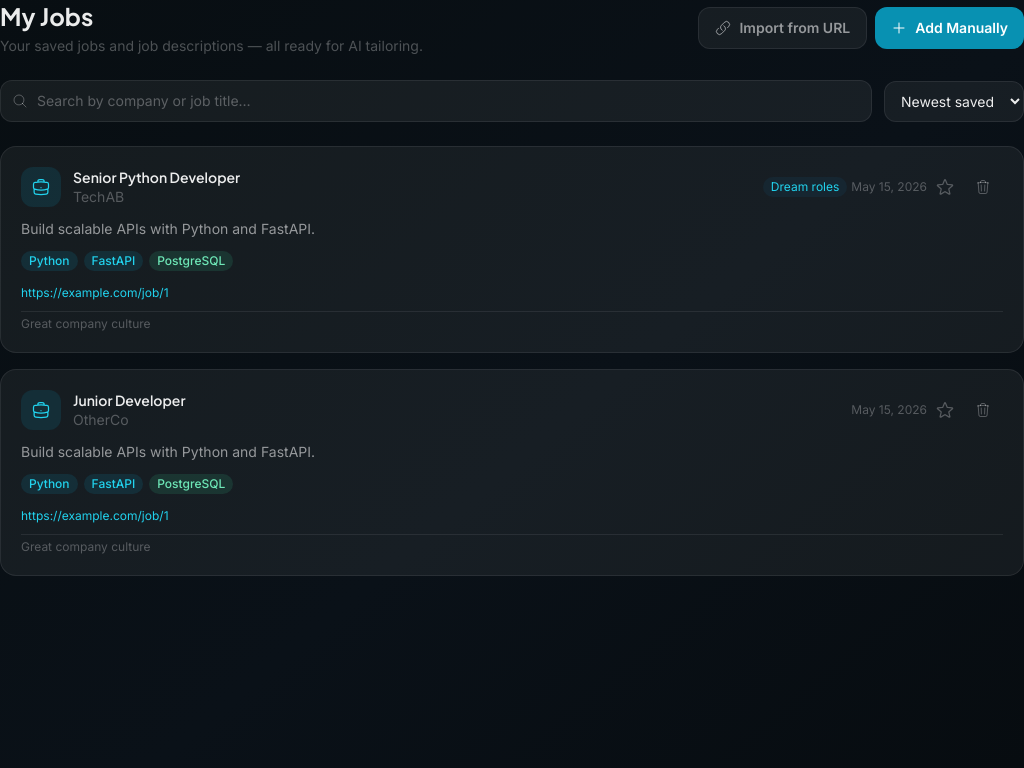
Test case: Jobs page (unified My Jobs) › filters by search text
expect the heading "Senior Python Developer" is shown: met, box [73,168,240,186]
In the field with placeholder "Search by company or job title…": (436, 101) [0,80,872,122], type "TechAB"
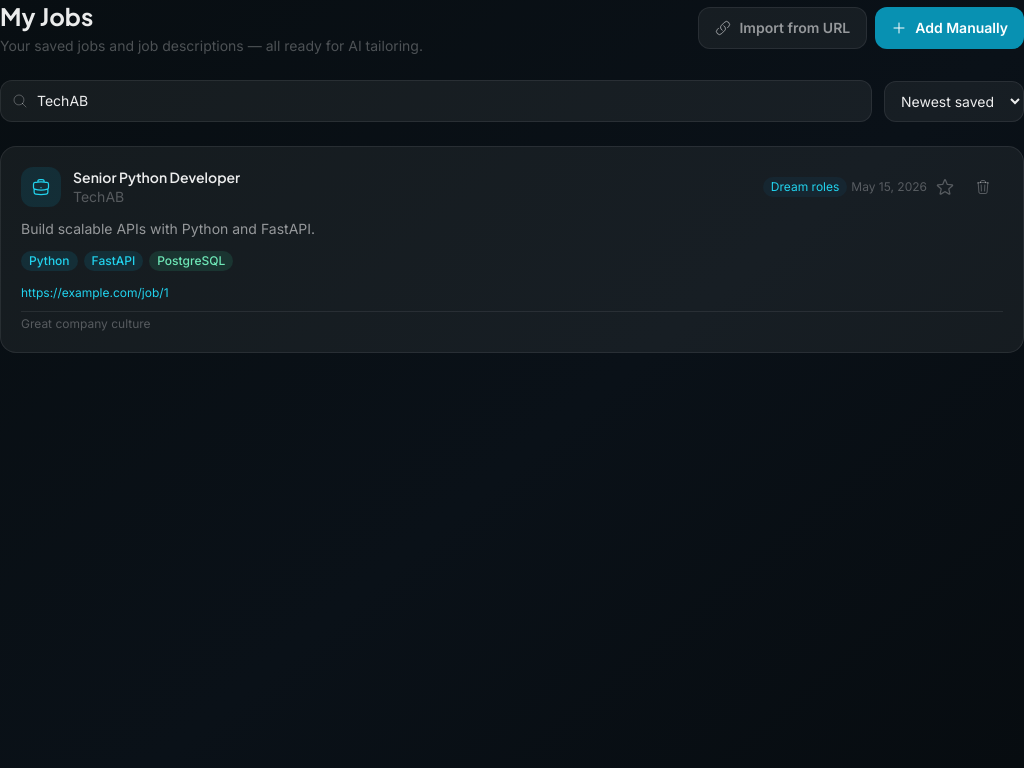
expect the heading "Senior Python Developer" is shown: met, box [73,168,240,186]
expect the heading "Junior Developer" is gone: met
